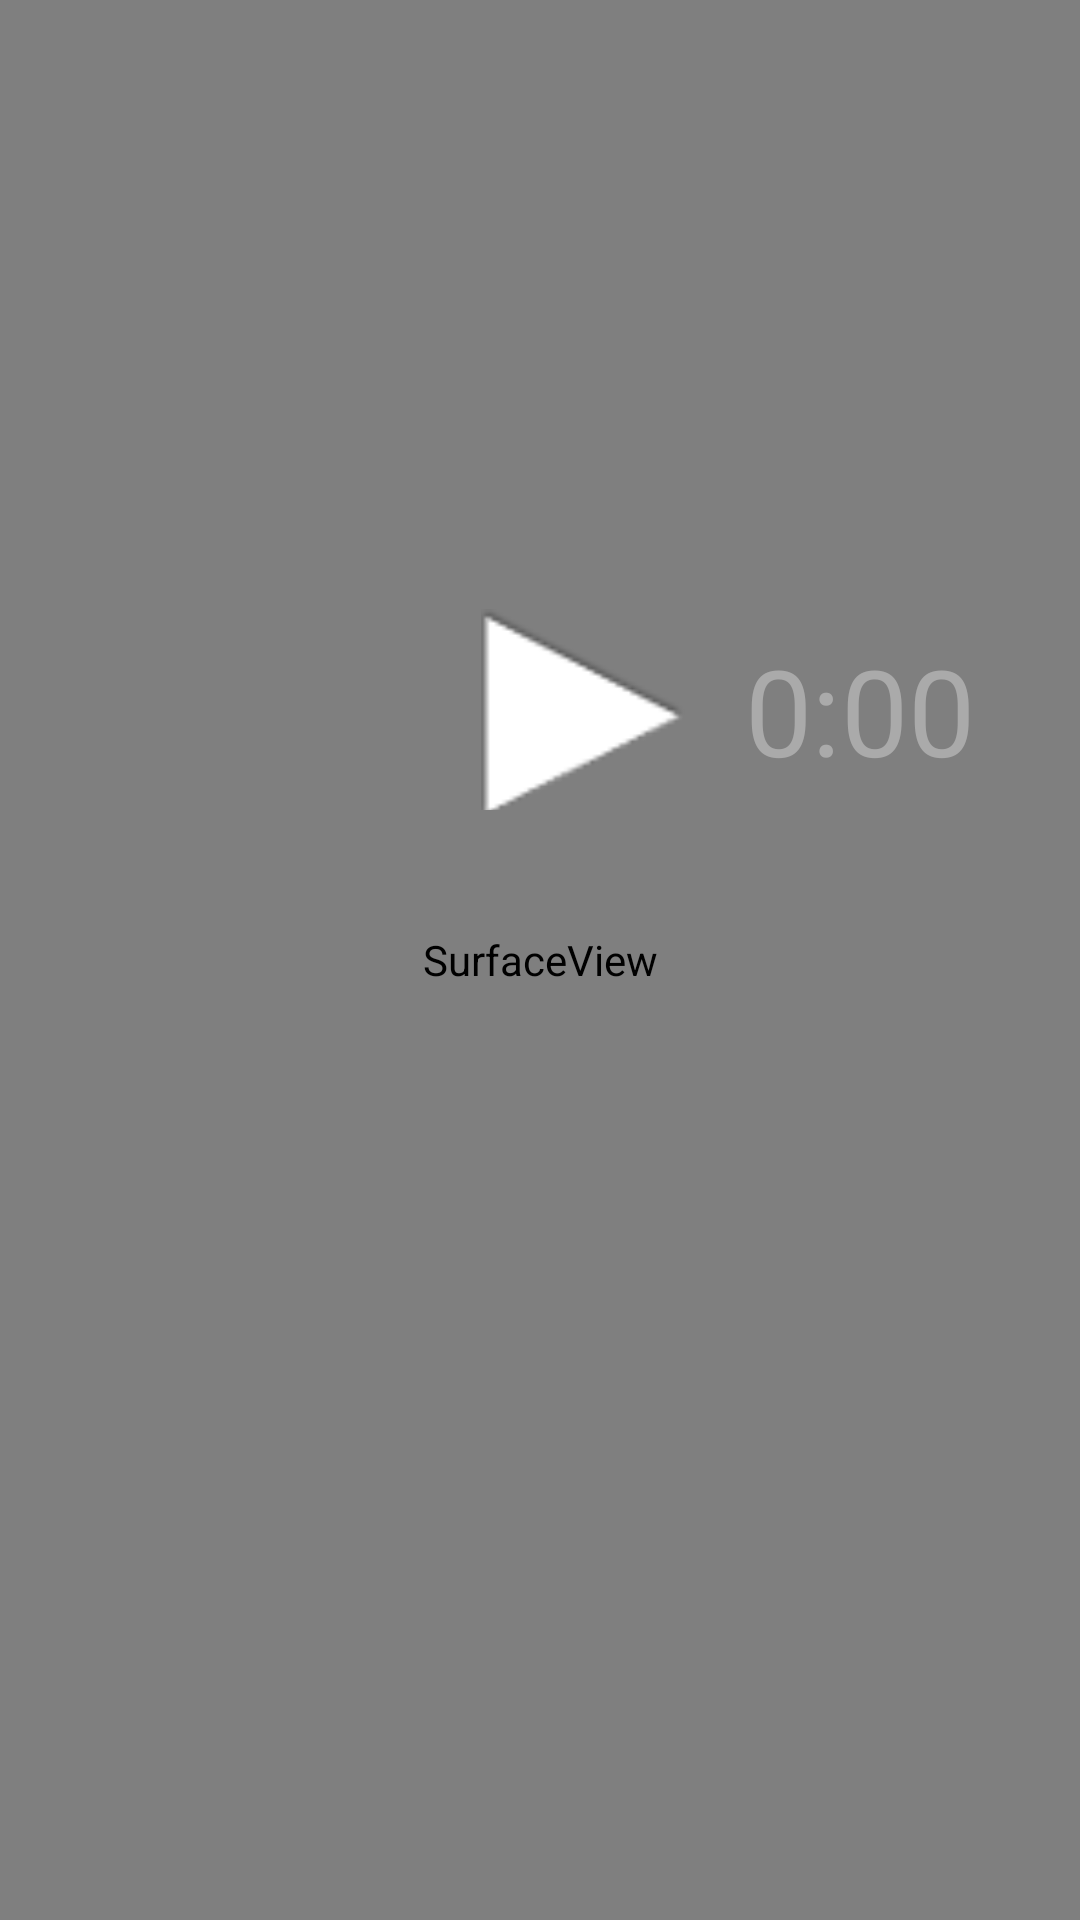

Icons on this 1080px x 1920px Android screen, each with the point to tap as point (x, y):
start: point (581, 712)
